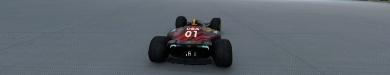Car: (147, 15, 232, 67)
